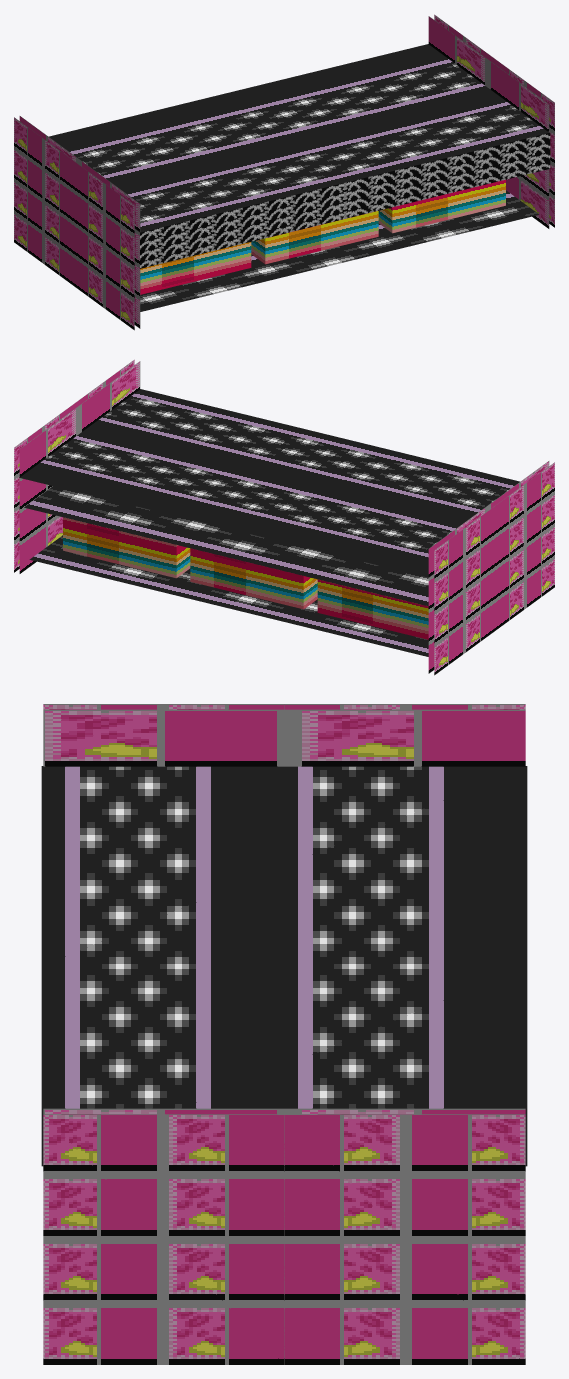
The model's file is 3639kg_case_06.gltf.
3 renders of one model, top to bottom at view 1: azimuth 30°, elevation 25°; view 2: azimuth 150°, elevation 25°; view 3: azimuth 270°, elevation 25°, orthographic. The views are drawn at different scales.
Parts seen in each view (by area): view 1: 3639kg_case_06; view 2: 3639kg_case_06; view 3: 3639kg_case_06.
Boxes of the visible parts, <box> form: 3639kg_case_06: <box>14,14,554,330</box>; 3639kg_case_06: <box>14,359,554,675</box>; 3639kg_case_06: <box>41,704,527,1364</box>.
Bounding box in the file's own units: 2 × 0.5691 × 1.
4 materials, 4 textured.
